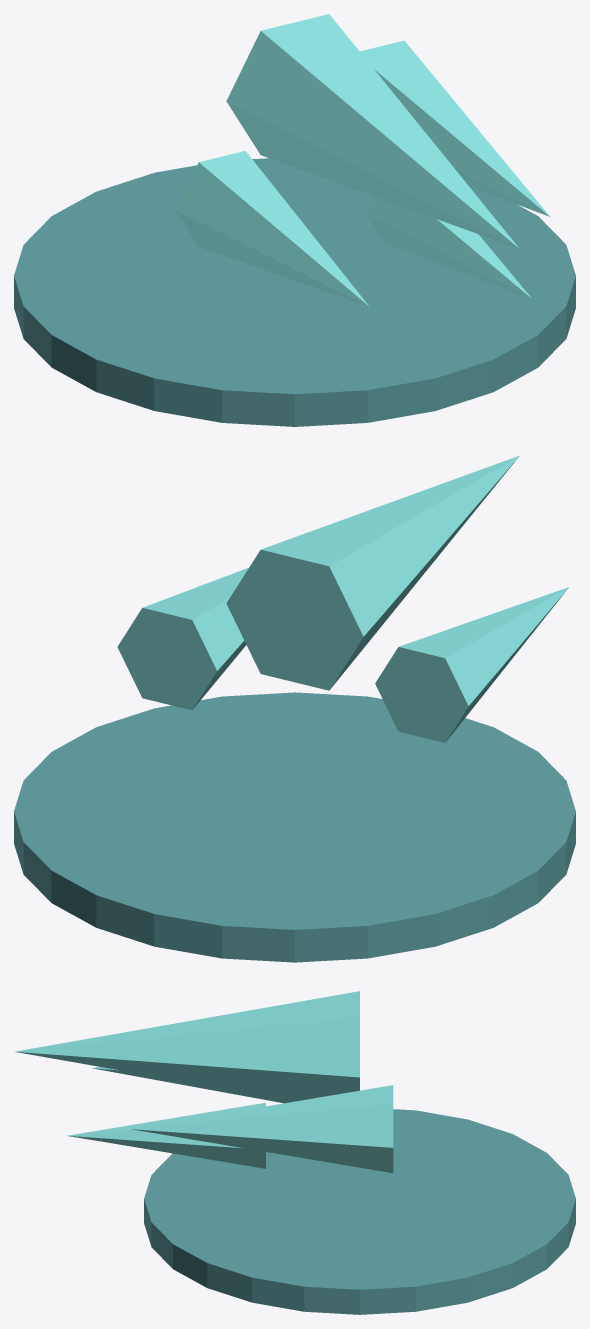
The model's file is energy_crystal_node.glb.
3 renders of one model, top to bottom at view 1: azimuth 30°, elevation 25°; view 2: azimuth 150°, elevation 25°; view 3: azimuth 270°, elevation 25°, orthographic. The views are drawn at different scales.
Parts seen in each view (by area): view 1: footprint, energy_crystal_0, energy_crystal_1, energy_crystal_2, energy_crystal_3; view 2: footprint, energy_crystal_0, energy_crystal_1, energy_crystal_2; view 3: footprint, energy_crystal_0, energy_crystal_2, energy_crystal_3, energy_crystal_1.
Boxes of the visible parts, x1,y1,x2,y2 form: footprint: (14,158,575,426); energy_crystal_0: (226,14,519,248); energy_crystal_1: (175,151,369,306); energy_crystal_2: (360,40,549,216); energy_crystal_3: (365,196,531,298); footprint: (14,692,575,962); energy_crystal_0: (226,455,519,690); energy_crystal_1: (375,587,568,742); energy_crystal_2: (117,567,248,710); footprint: (144,1109,575,1314); energy_crystal_0: (14,991,359,1101); energy_crystal_2: (130,1085,393,1173); energy_crystal_3: (67,1102,265,1168); energy_crystal_1: (92,1066,295,1103).
Bounding box in the file's own units: 1.56 × 0.8755 × 2.03.
